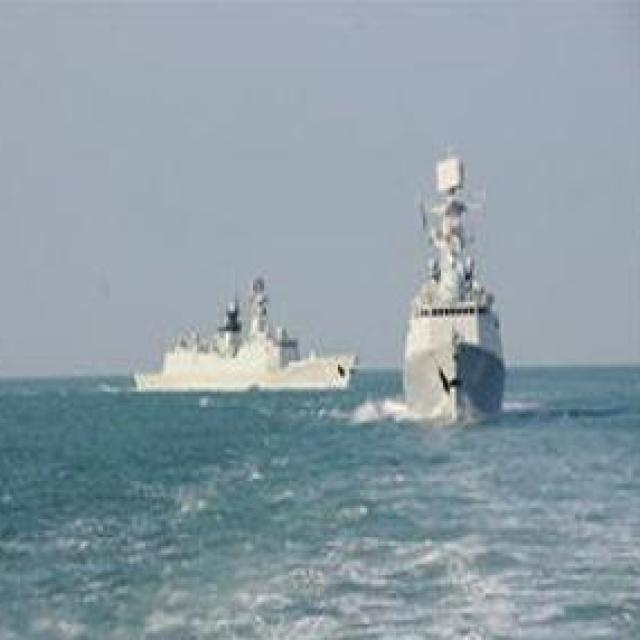navalvessels: (384, 150, 549, 428), (102, 248, 375, 399)
